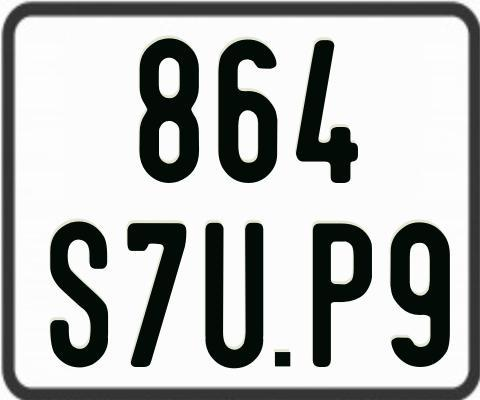4: (293, 39, 357, 184)
6: (215, 36, 274, 183)
7: (127, 223, 191, 373)
8: (138, 36, 198, 186)
9: (387, 221, 449, 366)
P: (313, 220, 372, 370)
S: (49, 220, 107, 367)
U: (204, 221, 262, 370)
